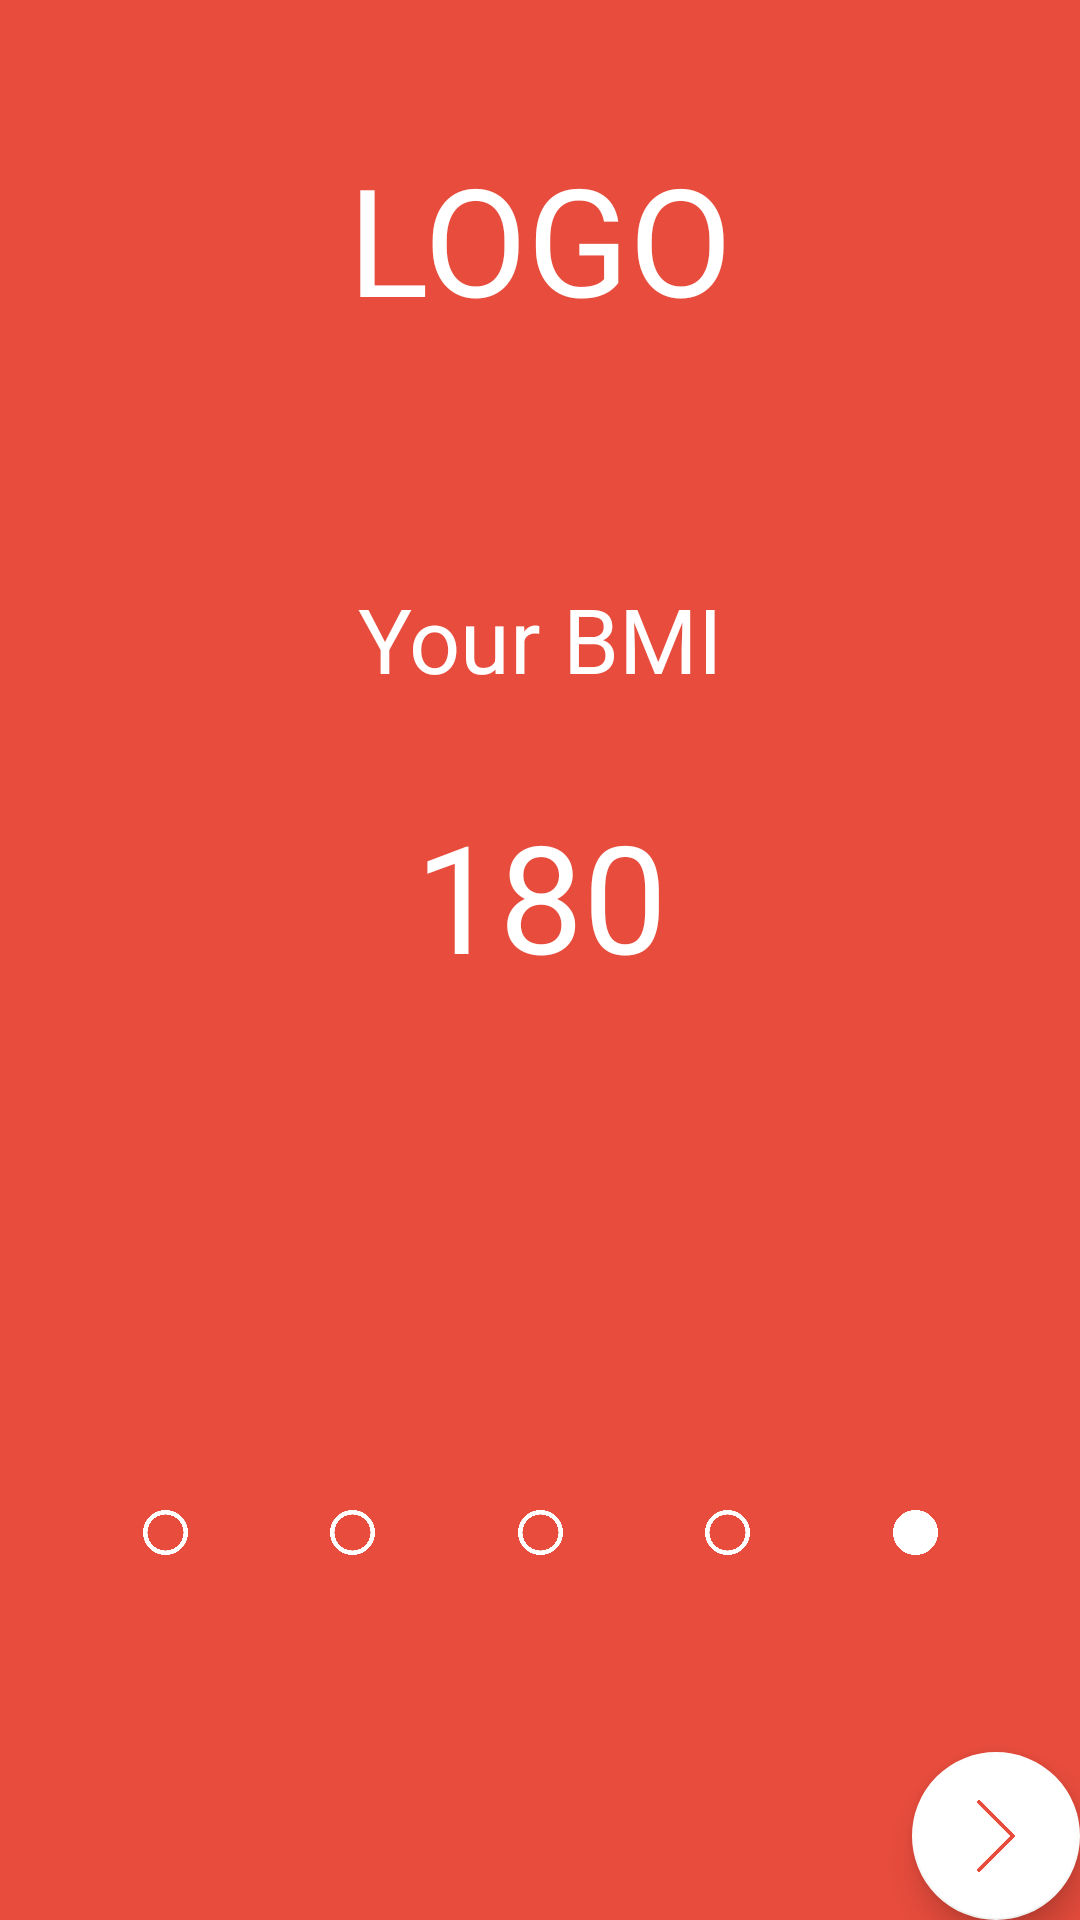

Point at icon controls on the screen. Image size 1080x1920, points as (x=x, y=y).
next: (x=996, y=1836)
